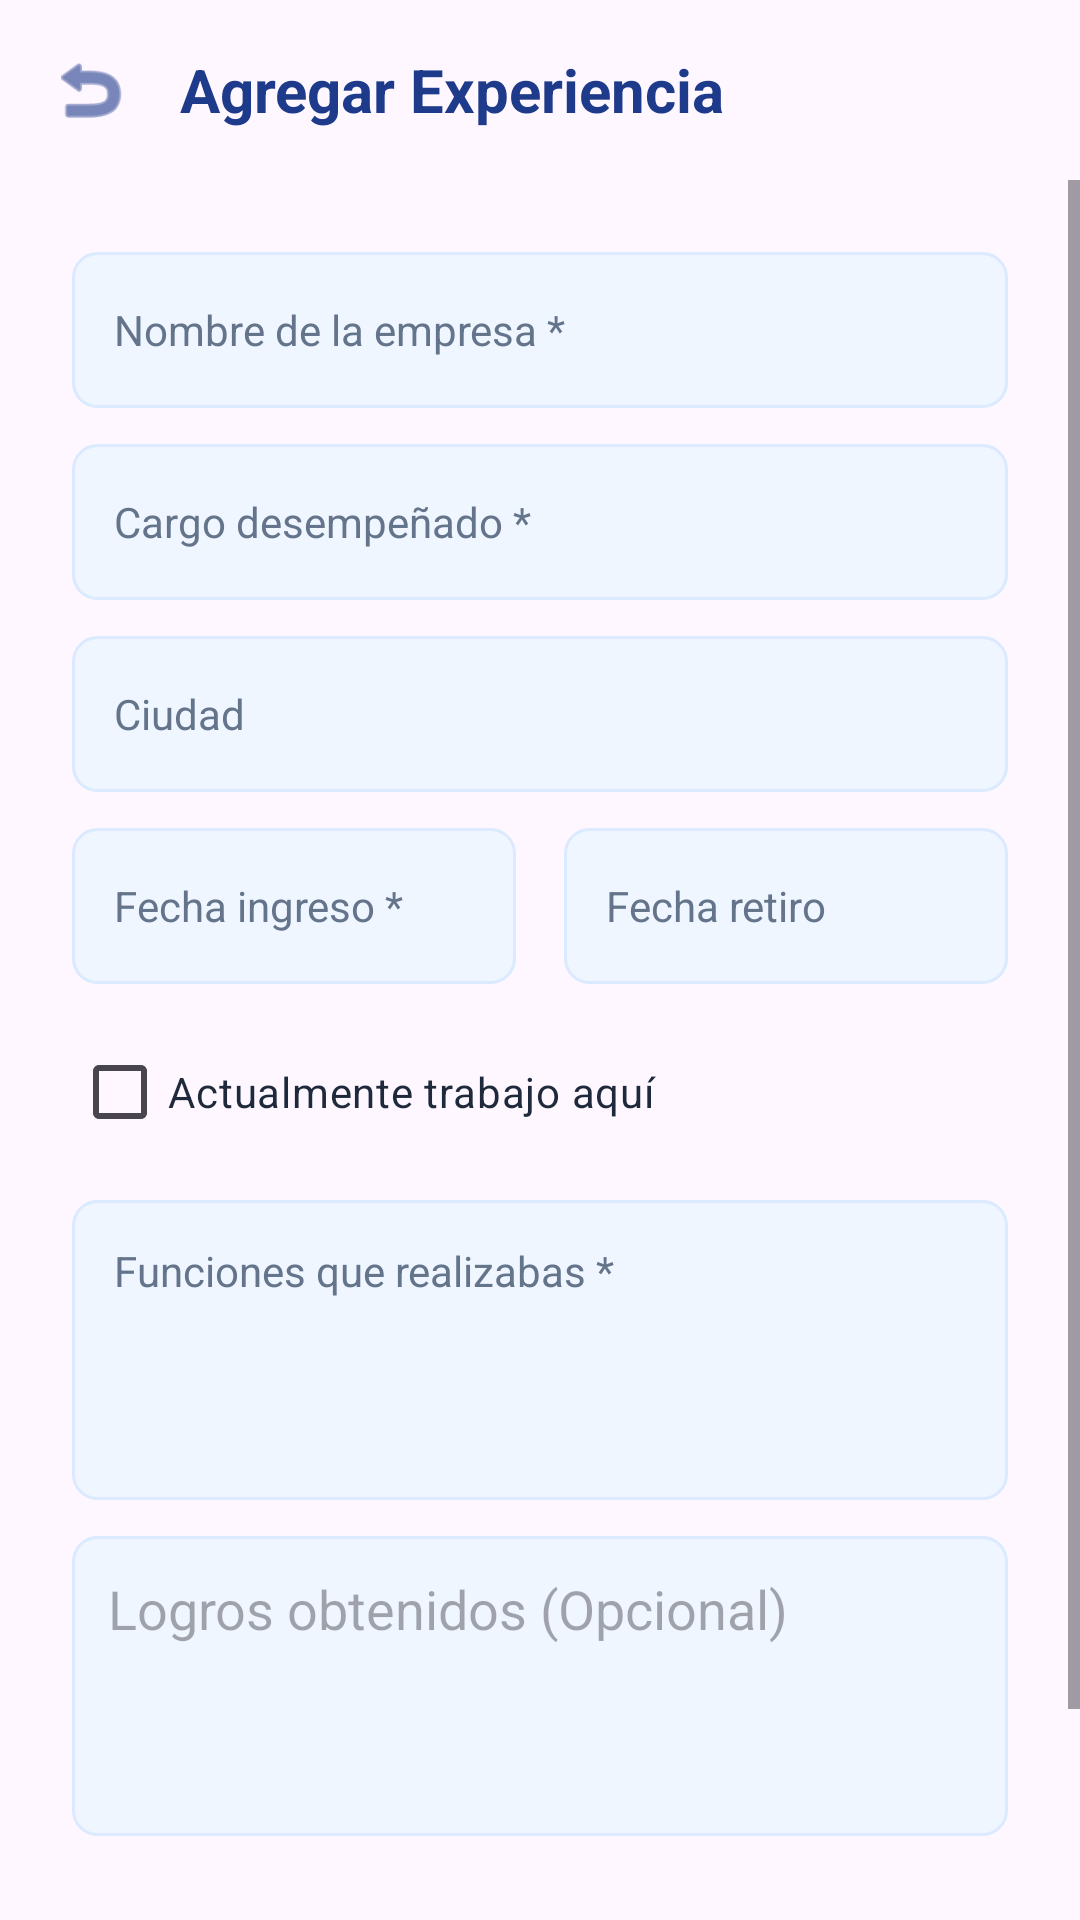

Named icons in this screenshot (1080×1920) and their bounding boxes, (x1, y1, x2, y2):
Regresar: (61, 63, 121, 118)
